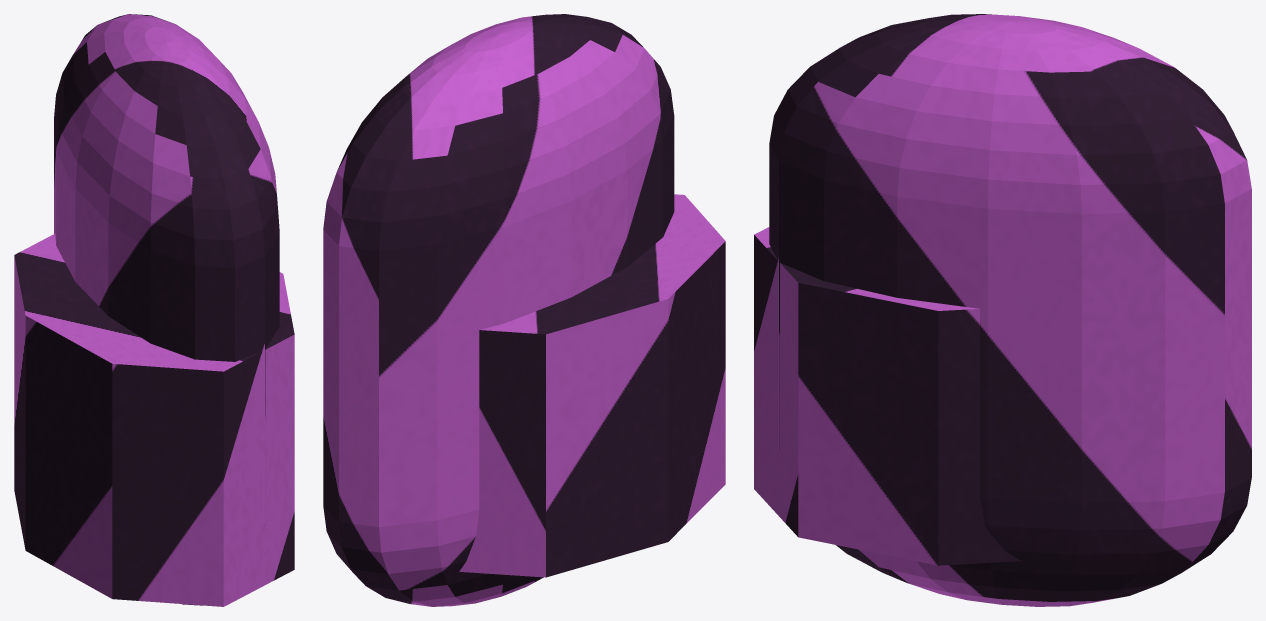
The picture shows the model from 3 angles, left to right: view 1: azimuth 30°, elevation 25°; view 2: azimuth 150°, elevation 25°; view 3: azimuth 270°, elevation 25°; orthographic projection. The views are drawn at different scales.
Parts seen in each view (by area): view 1: geometry_0; view 2: geometry_0; view 3: geometry_0.
Boxes of the visible parts, box(x1,y1,x2,y2) form: geometry_0: box(14, 14, 294, 606); geometry_0: box(323, 14, 725, 606); geometry_0: box(754, 14, 1251, 606).
Bounding box in the file's own units: 0.5392 × 1.13 × 0.8804.
1 material, 1 textured.
